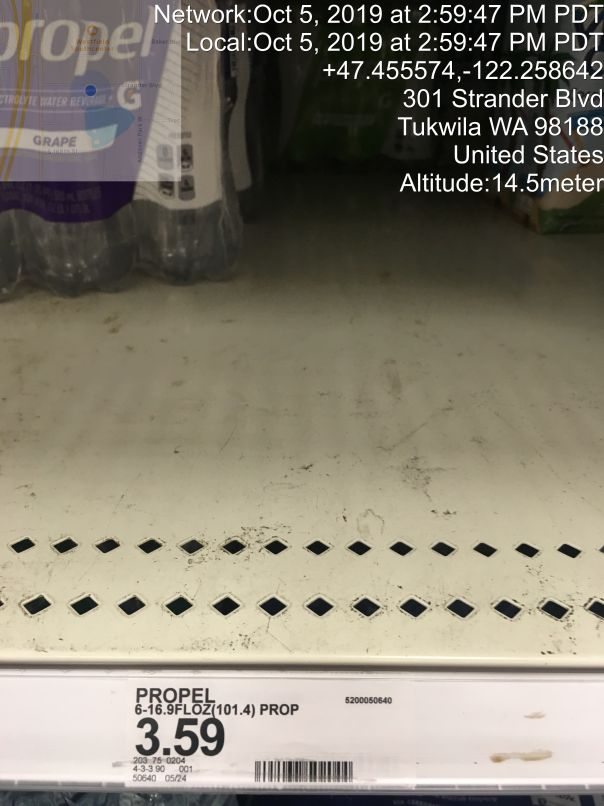Label: (124, 675, 430, 804)
Location: (390, 84, 604, 173)
Time: (150, 2, 604, 60)
Void: (10, 309, 579, 630)
